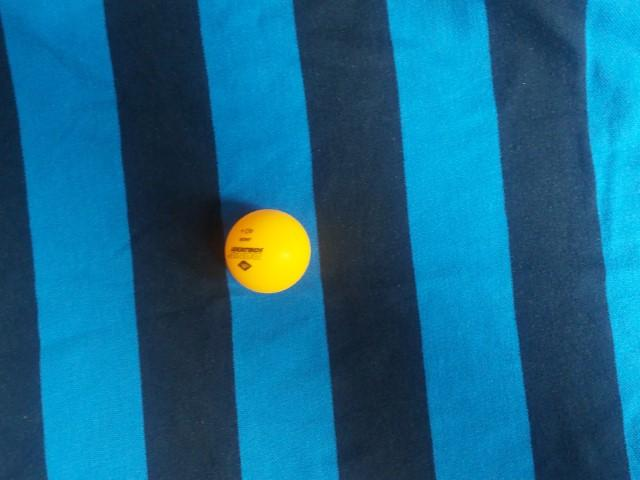oball: (319, 179, 419, 277)
